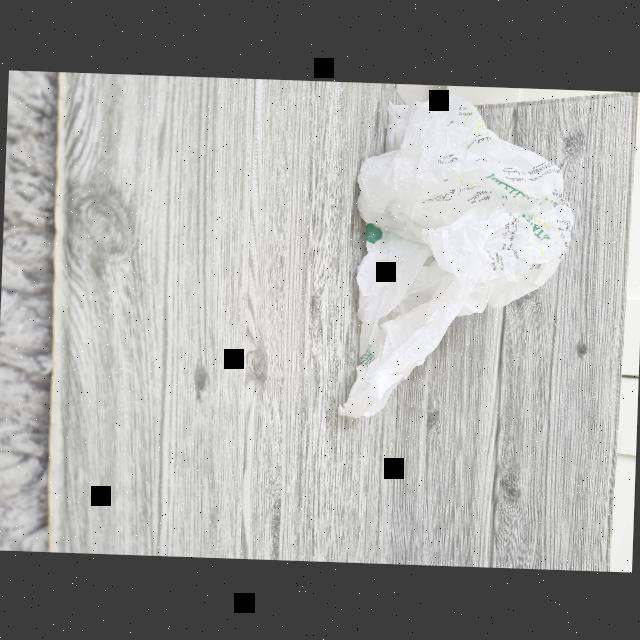plastic_bag: (346, 92, 580, 428)
